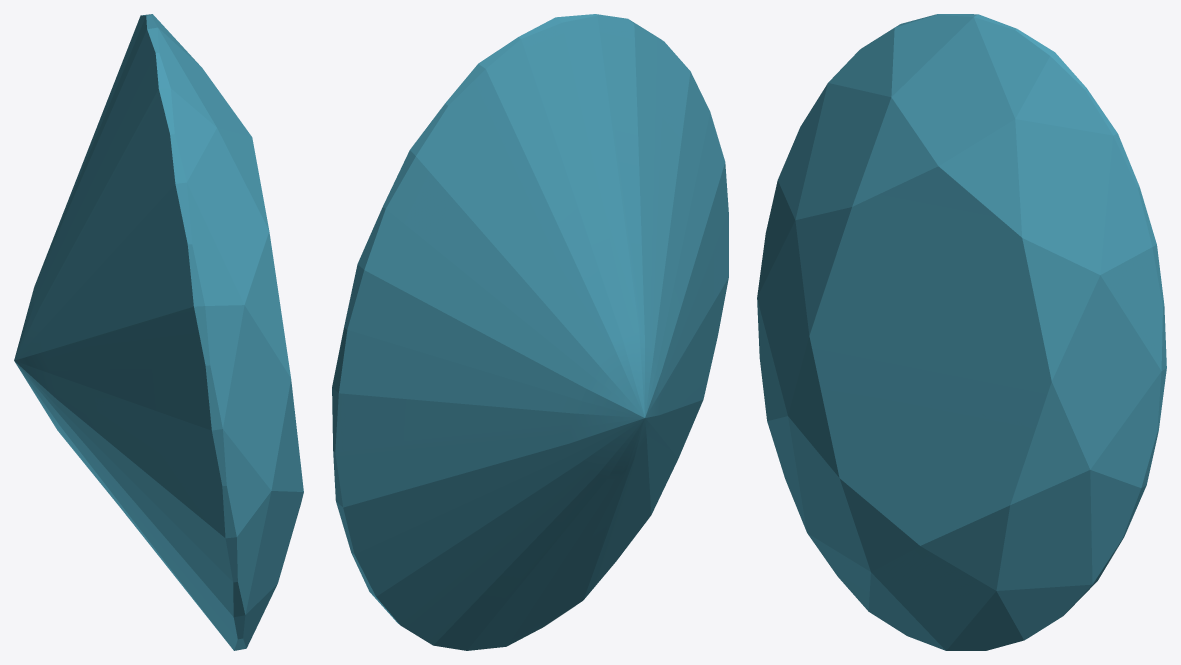
File: BR5_8shapes_Oval_Classic_Stone.001 3.glb
3 renders of one model, left to right at view 1: azimuth 30°, elevation 25°; view 2: azimuth 150°, elevation 25°; view 3: azimuth 270°, elevation 25°, orthographic. The views are drawn at different scales.
Visible parts, largest first — view 1: BR5_8shapes_Oval_Classic_Stone.001; view 2: BR5_8shapes_Oval_Classic_Stone.001; view 3: BR5_8shapes_Oval_Classic_Stone.001.
Part boxes in pixels (<box>): BR5_8shapes_Oval_Classic_Stone.001: <box>14,14,303,650</box>; BR5_8shapes_Oval_Classic_Stone.001: <box>332,14,728,650</box>; BR5_8shapes_Oval_Classic_Stone.001: <box>757,14,1166,650</box>.
Size of the model in its own units: 0.2511 by 0.5709 by 0.3519.
